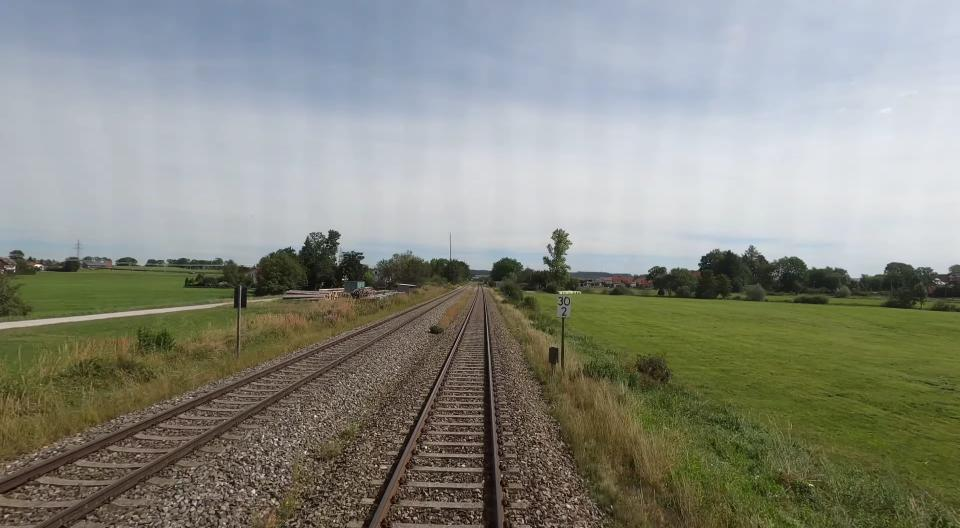Plant: (253, 487, 300, 528), (430, 292, 471, 333), (318, 438, 344, 461), (335, 425, 359, 441)
